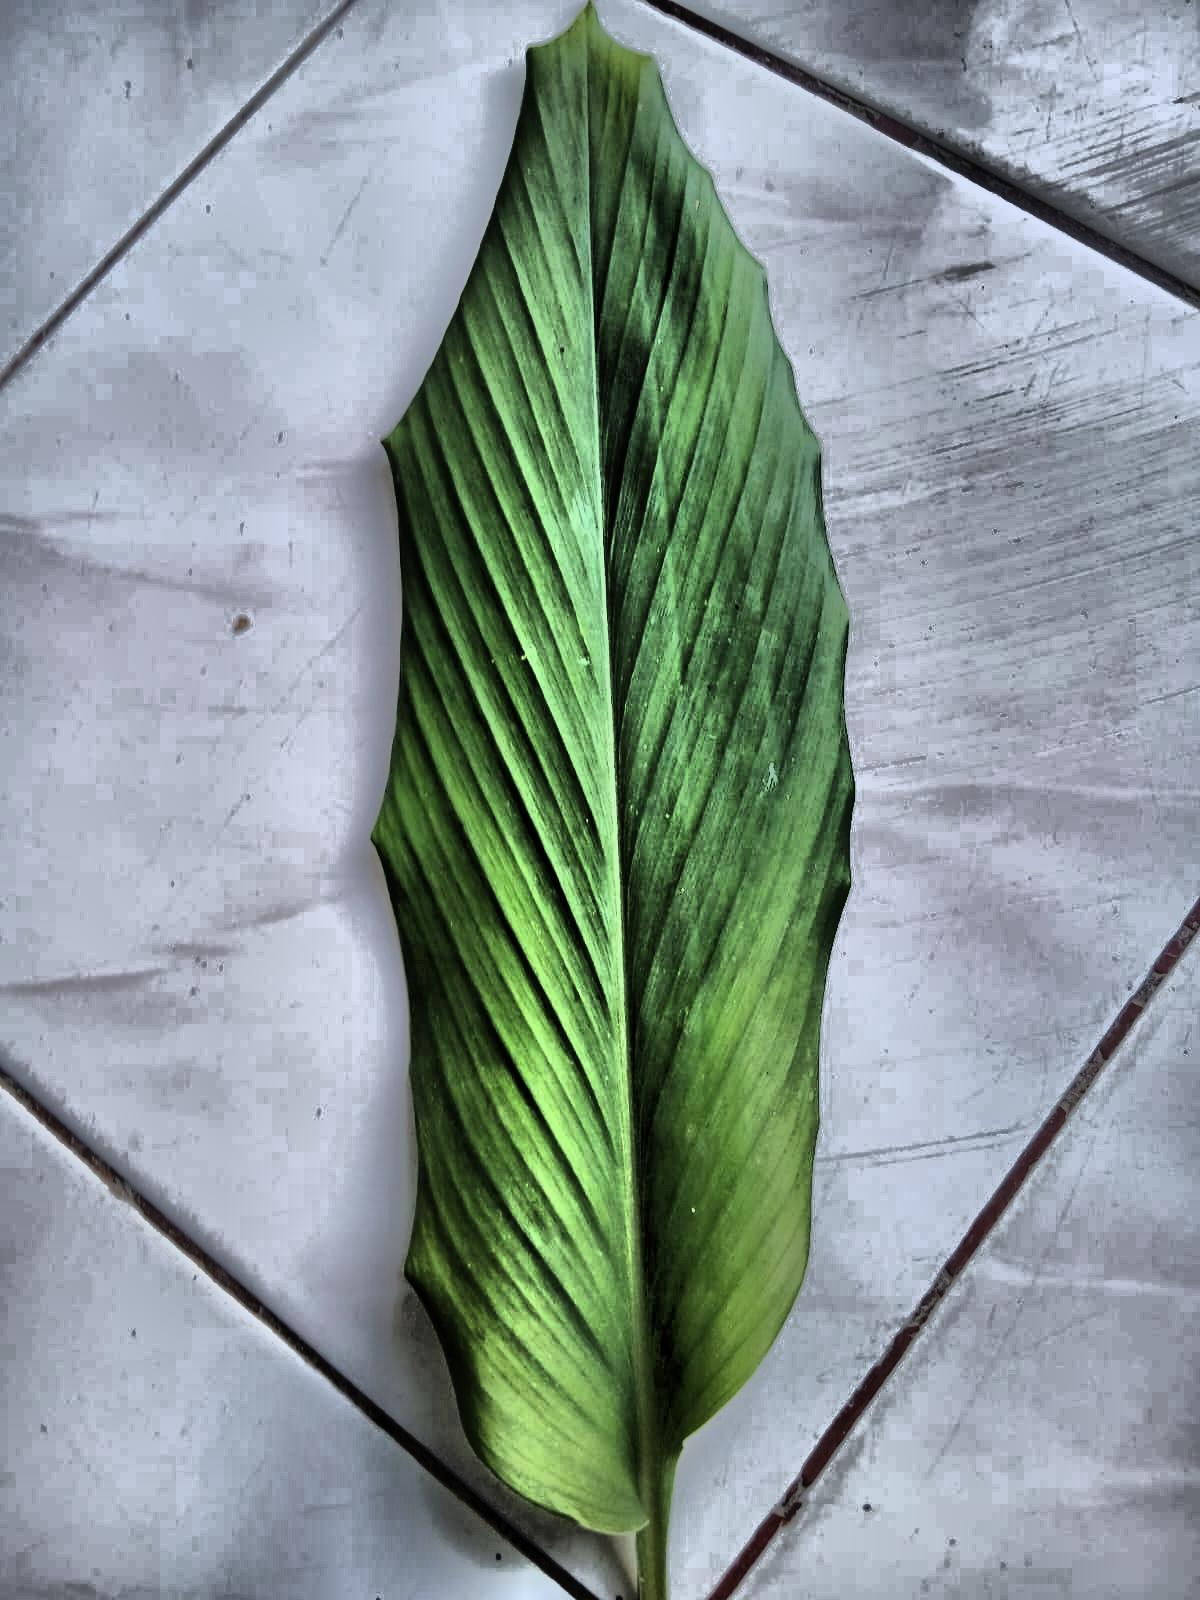daun kunyit: (373, 3, 853, 1599)
